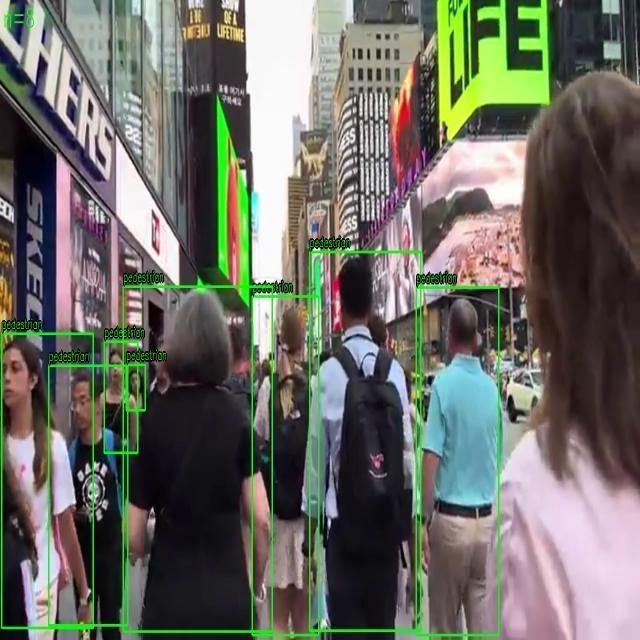person: (123, 286, 273, 632), (309, 252, 421, 632), (416, 287, 499, 636), (2, 334, 94, 628), (252, 296, 319, 636), (49, 365, 128, 626), (104, 342, 138, 454), (126, 364, 146, 410)
